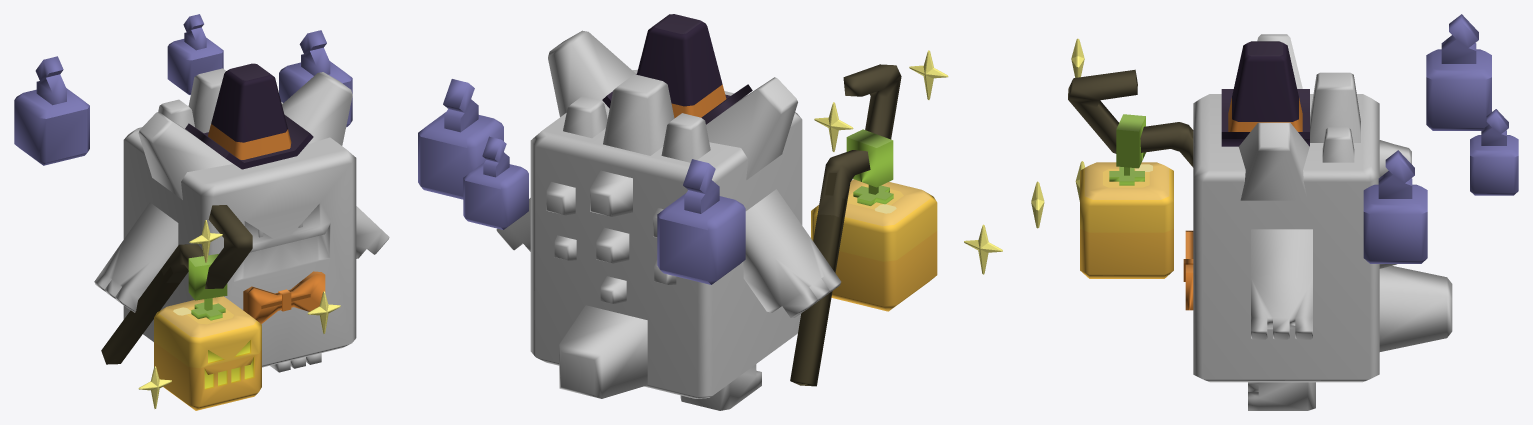
Rendered from pq0094halloween.obj.
3 renders of one model, left to right at view 1: azimuth 30°, elevation 25°; view 2: azimuth 150°, elevation 25°; view 3: azimuth 270°, elevation 25°, orthographic. The views are drawn at different scales.
Visible parts, largest first — view 1: pq0094halloween, pq0094halloween_obj, pq0094halloween_hitodama, pq0094halloween_fx; view 2: pq0094halloween, pq0094halloween_obj, pq0094halloween_hitodama, pq0094halloween_fx; view 3: pq0094halloween, pq0094halloween_obj, pq0094halloween_hitodama, pq0094halloween_fx.
Part boxes in pixels (<box>): pq0094halloween: <box>94,68,389,372</box>; pq0094halloween_obj: <box>101,63,325,410</box>; pq0094halloween_hitodama: <box>14,14,352,165</box>; pq0094halloween_fx: <box>138,220,340,408</box>; pq0094halloween: <box>496,30,841,410</box>; pq0094halloween_obj: <box>602,14,937,386</box>; pq0094halloween_hitodama: <box>418,79,745,284</box>; pq0094halloween_fx: <box>814,50,1002,274</box>; pq0094halloween: <box>1193,34,1452,410</box>; pq0094halloween_obj: <box>1068,41,1309,310</box>; pq0094halloween_hitodama: <box>1363,14,1518,263</box>; pq0094halloween_fx: <box>1031,38,1085,228</box>.
Bounding box in the file's own units: 4.01 × 3.33 × 4.48.
